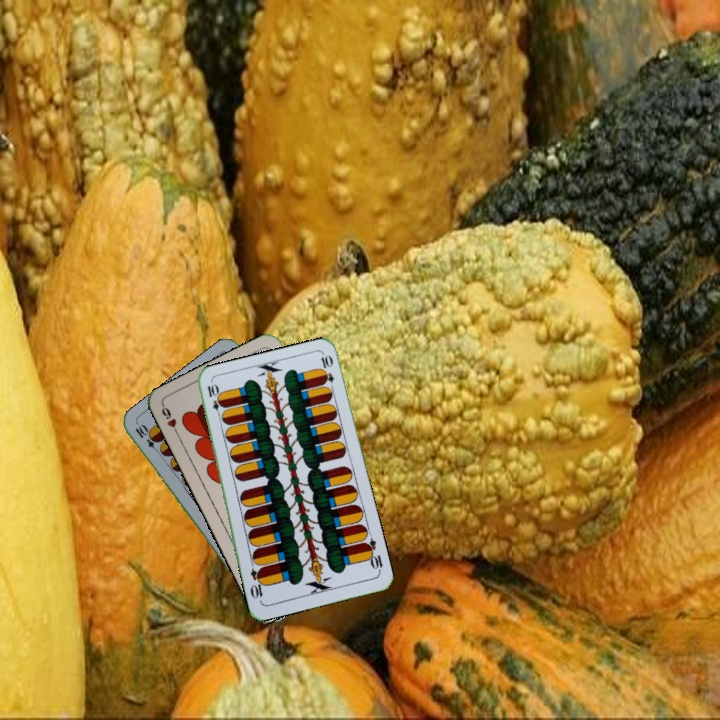E10: (131, 421, 163, 456), (360, 535, 385, 575), (203, 380, 225, 420)
H9: (157, 401, 182, 439)
